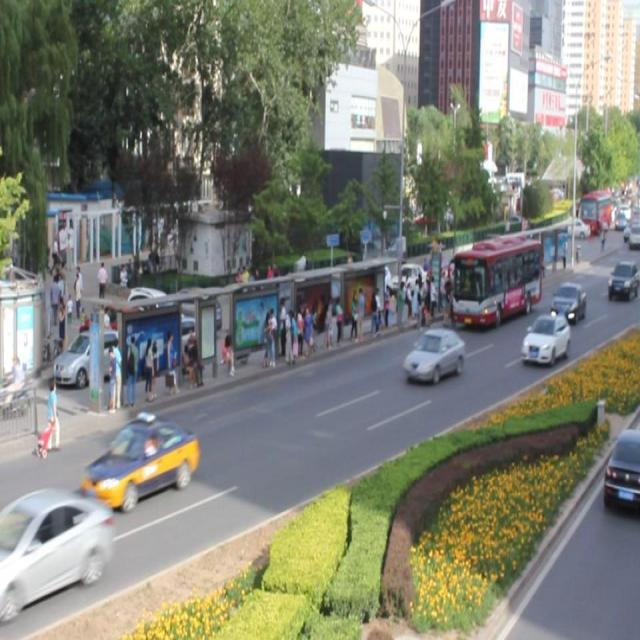car: (1, 485, 111, 611), (81, 417, 199, 509), (402, 326, 464, 382), (519, 314, 568, 364), (548, 282, 585, 324), (606, 261, 640, 302)
van: (447, 232, 538, 326)
